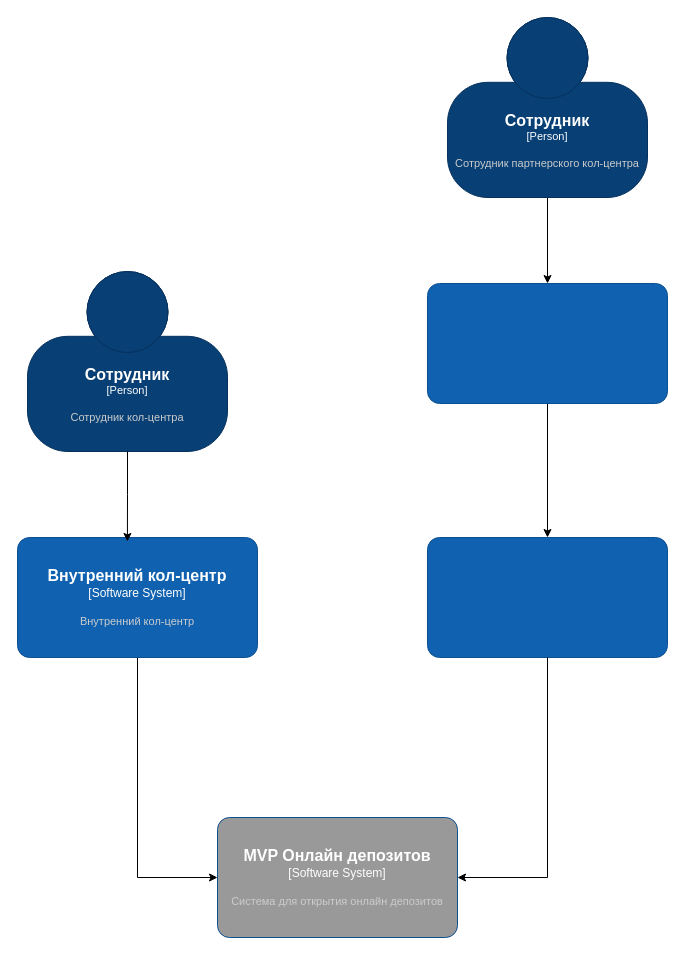
The diagram is 685 pixels wide and 955 high, and some of its shapes have lost their labels. Here are the shapes that lost their labels. From the top down, the centre of each, then its label:
At pixel 547 343: "Партнерский кол-центра [Software System] Партнерский кол-центр".
At pixel 547 597: "Хостинг SFPT [Software System] Хостинг для хранения файла со ставками".
